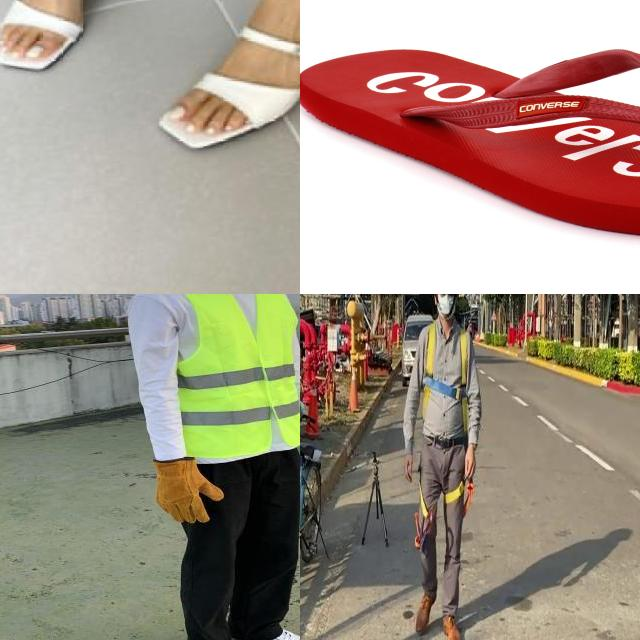Harness: (424, 323, 468, 432)
Sandals: (300, 47, 640, 239), (155, 0, 300, 154), (0, 0, 128, 78)
boots: (231, 629, 300, 640)
person: (98, 294, 300, 640)
vest: (158, 294, 300, 458)
